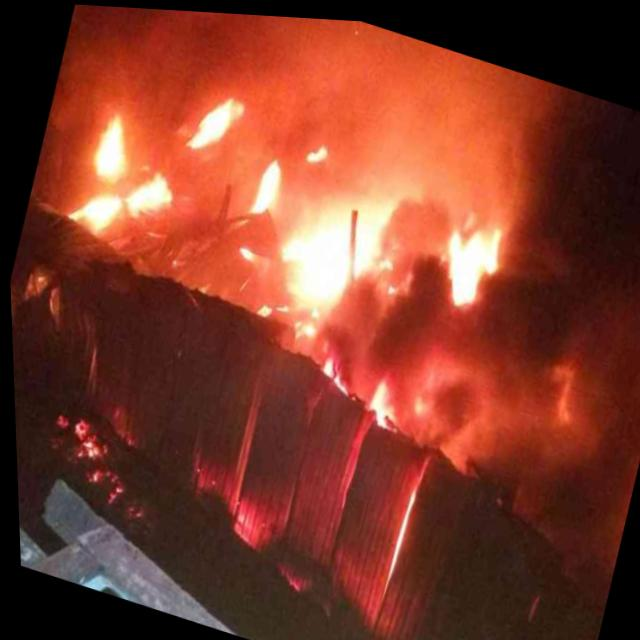fire: (248, 140, 419, 354), (58, 139, 185, 265), (419, 198, 515, 323), (169, 71, 257, 168), (81, 105, 140, 189), (242, 147, 288, 223), (539, 346, 584, 417), (355, 366, 403, 429), (306, 345, 358, 398), (298, 126, 334, 170), (230, 234, 263, 270)
